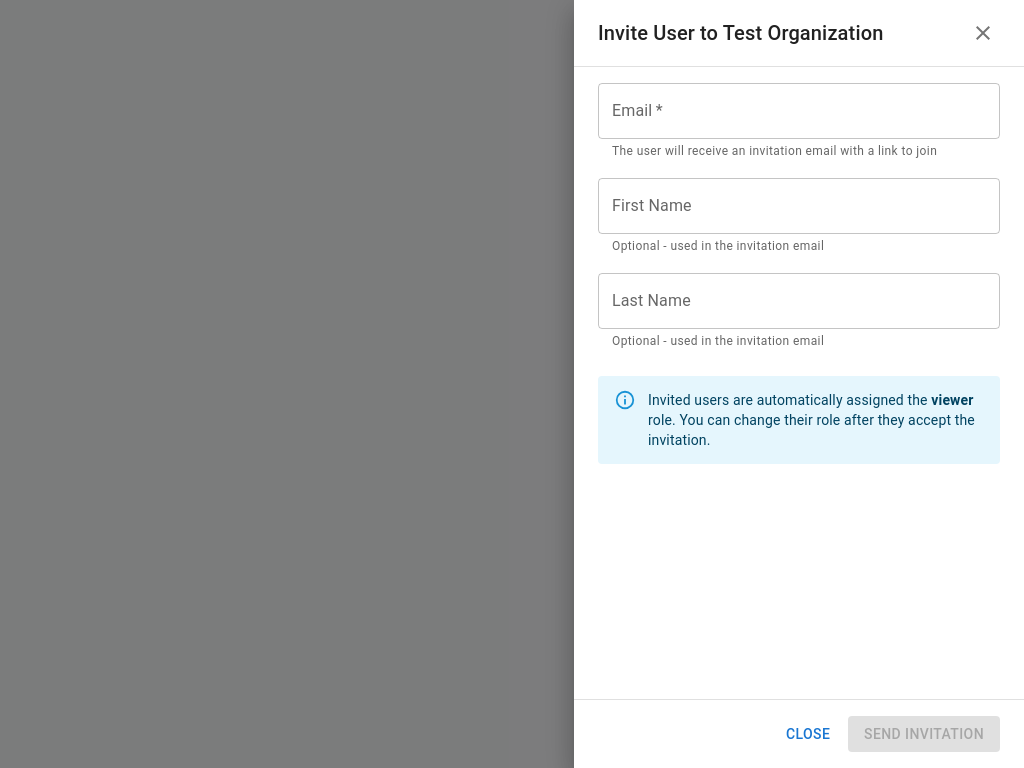
Scenario: InviteUserDrawer › enables submit button when email is valid
In the field labelled "Email *": (799, 111) [598,83,1000,139], type "valid@example.com"
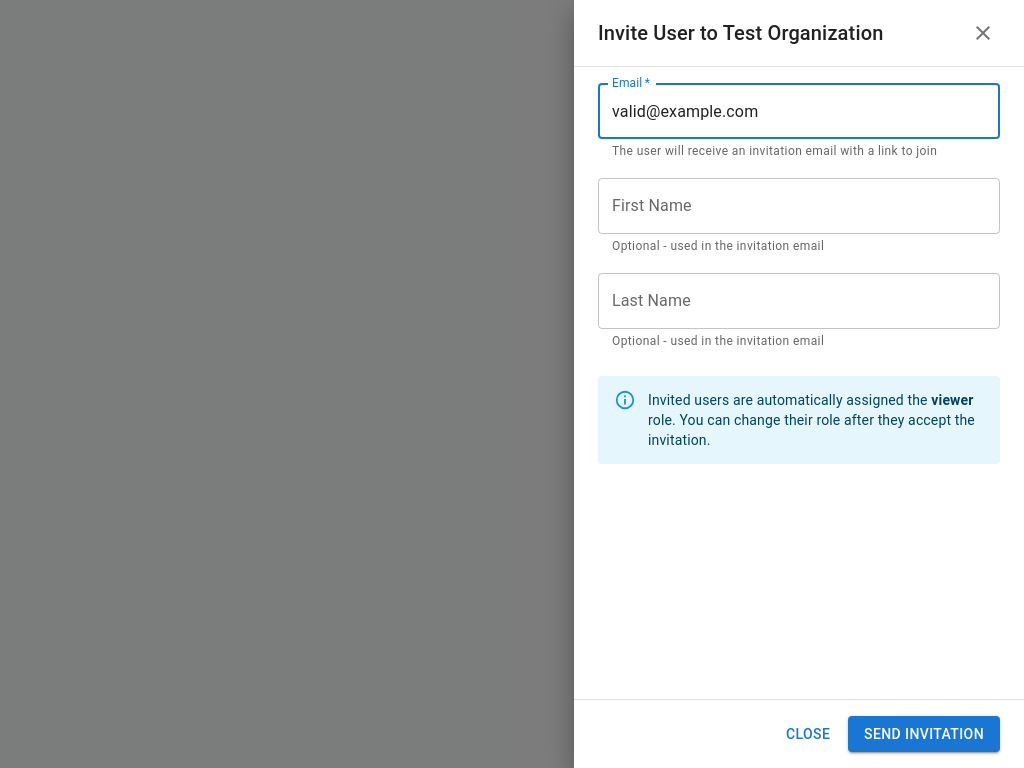
Check: the button "Send Invitation" is enabled, box [848,716,1000,752]
